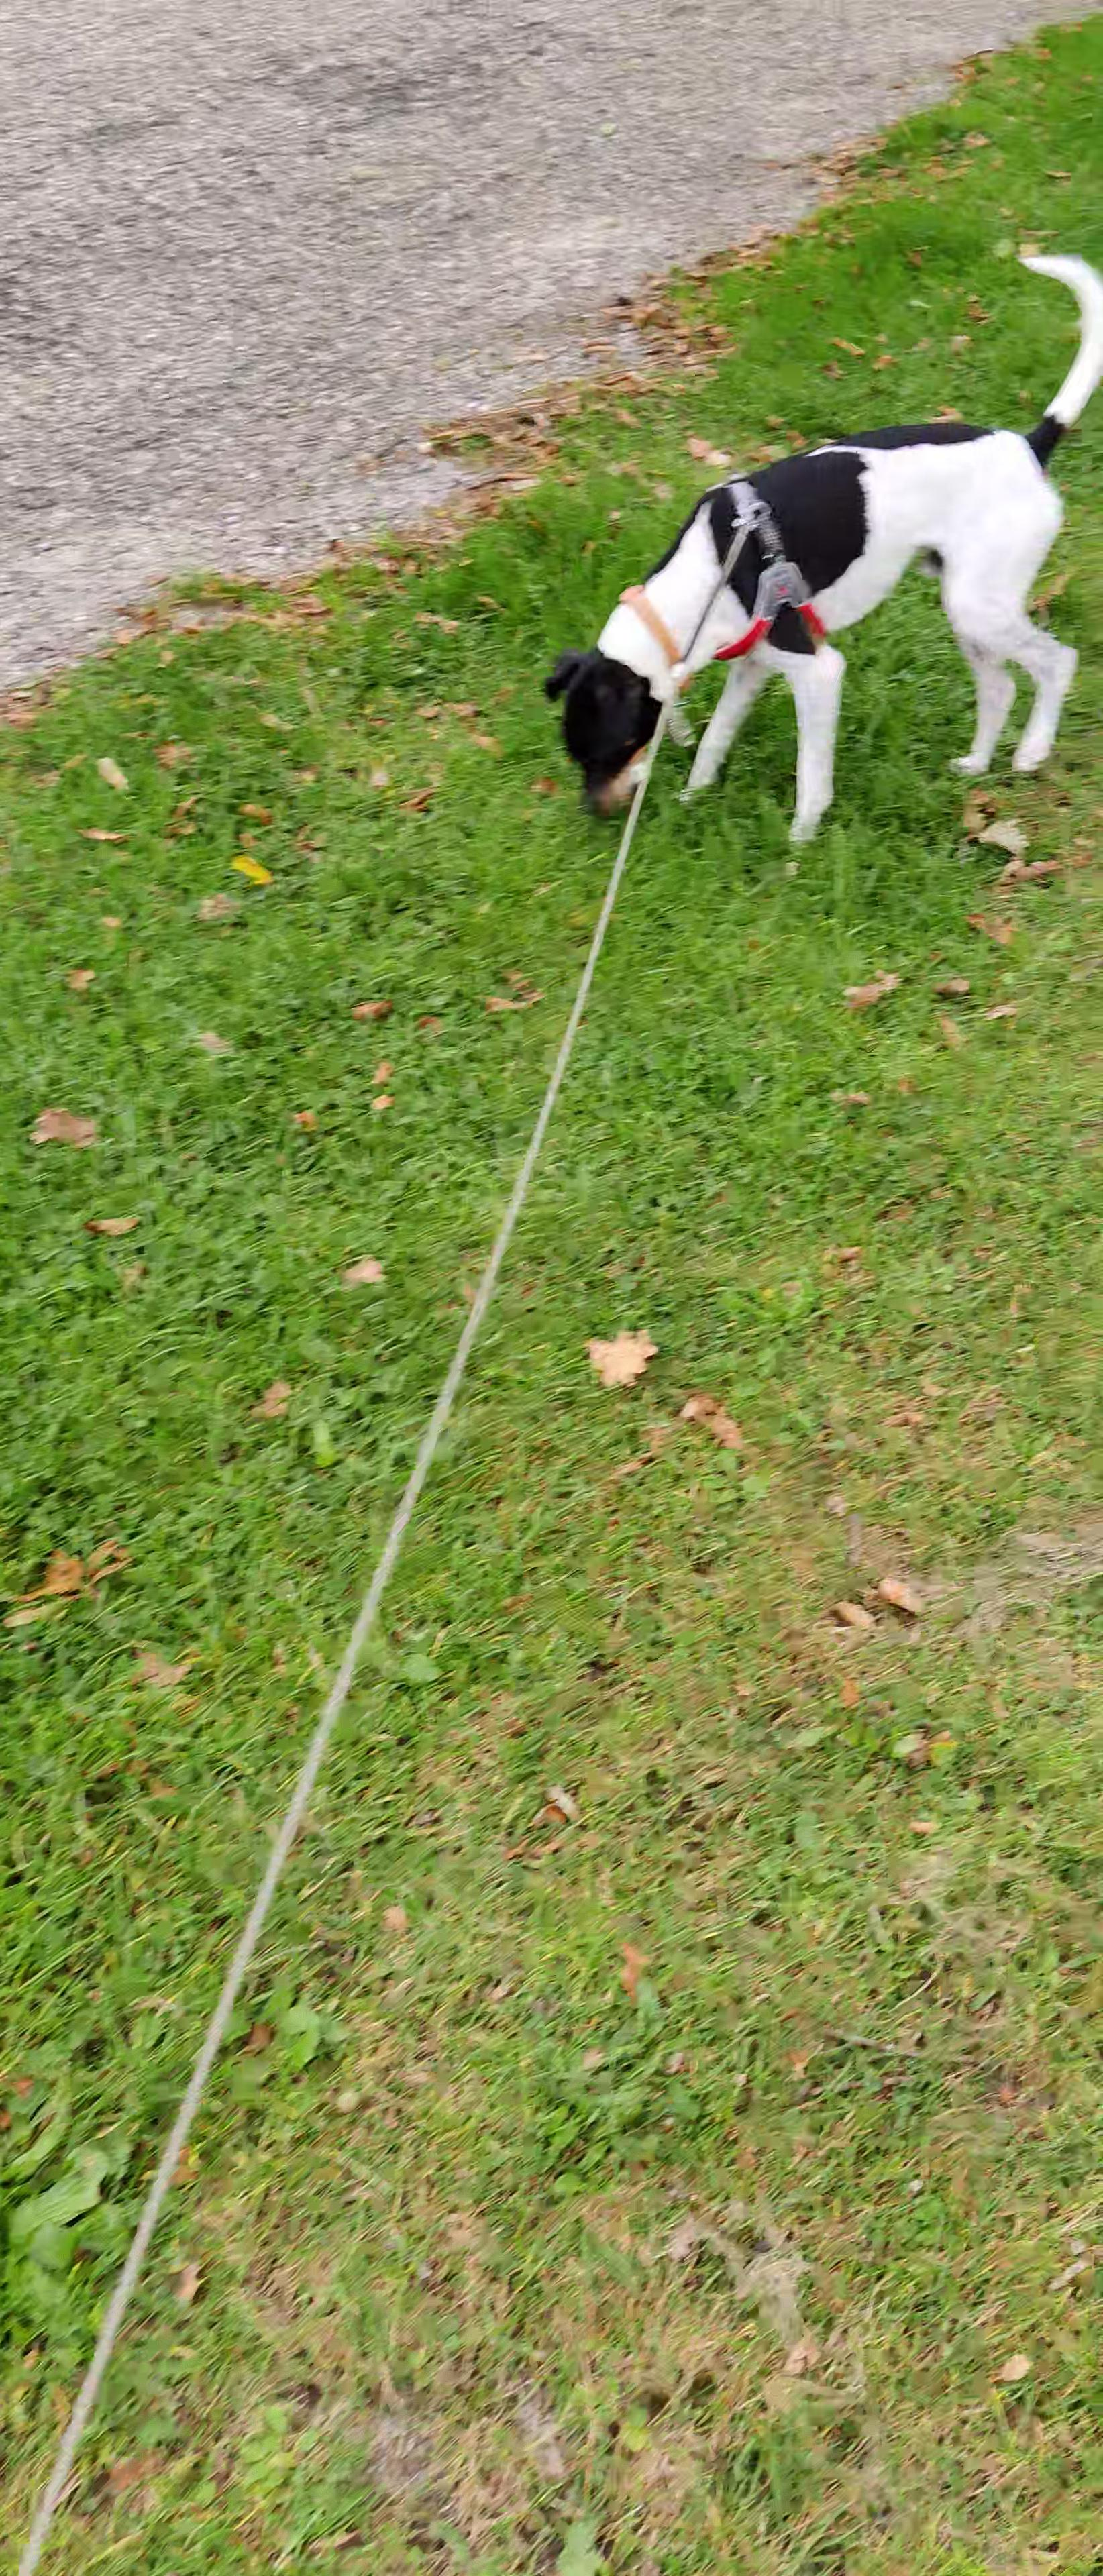Dog: (523, 233, 1103, 856)
